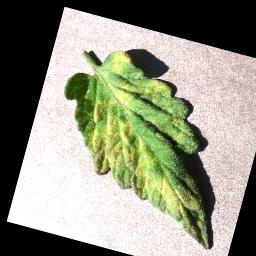Leaf_Mold: (33, 39, 253, 251)
